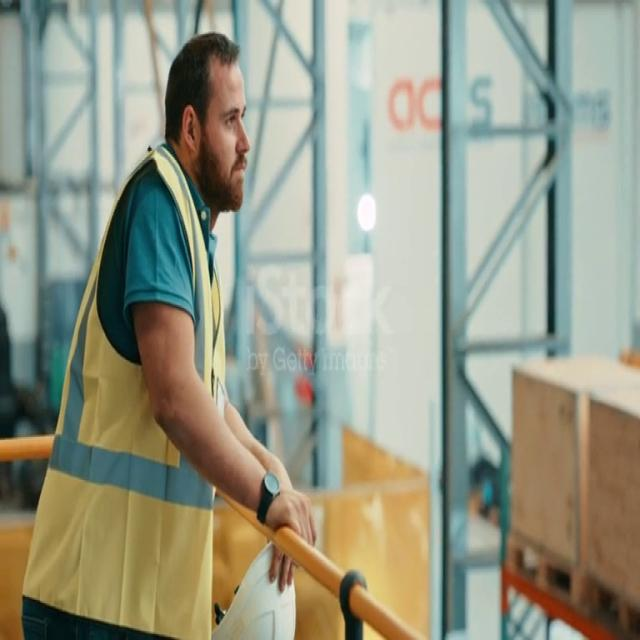sem_capacete: (153, 14, 266, 218)
